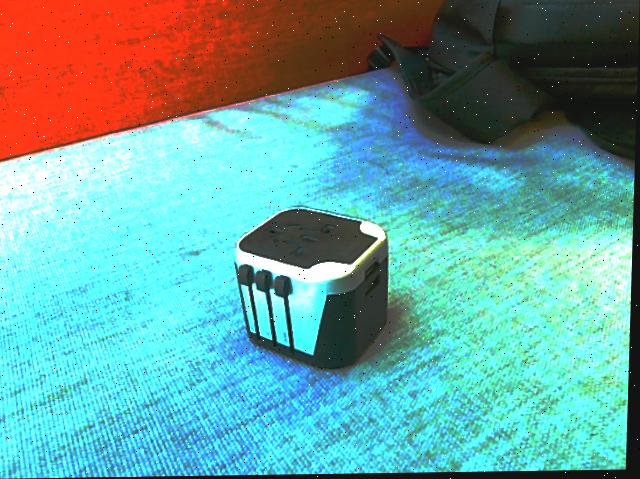adapter: (231, 206, 393, 372)
